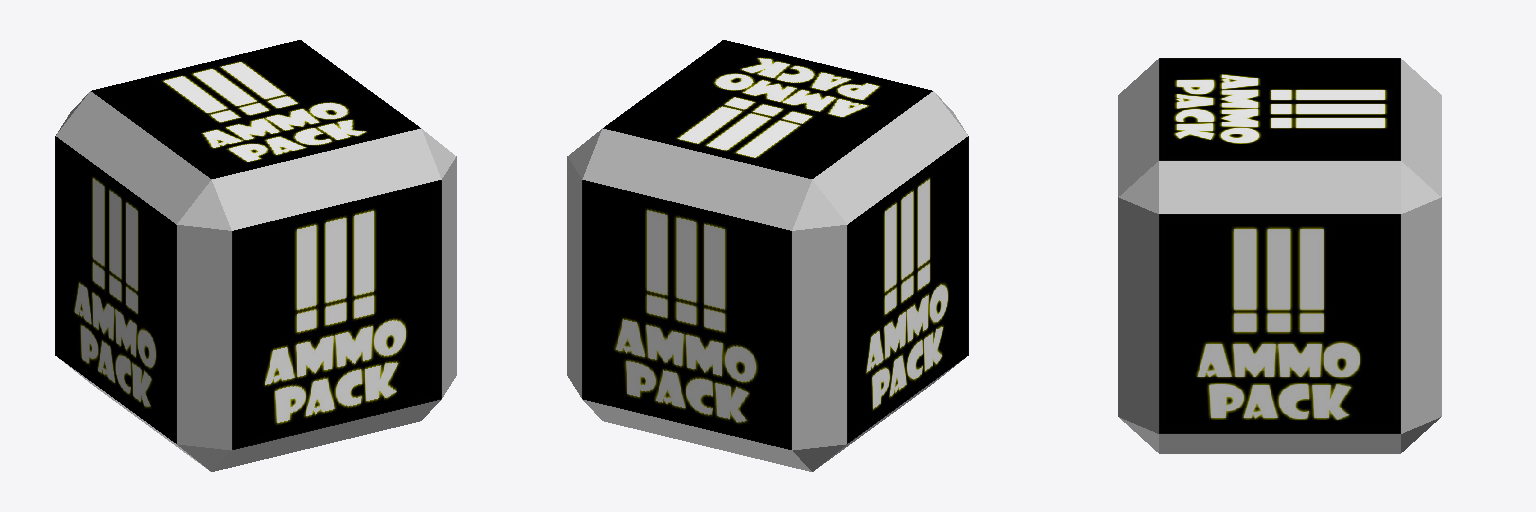
The picture shows the model from 3 angles: view 1: azimuth 30°, elevation 25°; view 2: azimuth 150°, elevation 25°; view 3: azimuth 270°, elevation 25°; orthographic projection.
Size of the model in its own units: 0.5 by 0.5 by 0.5.
2 materials, 1 textured.